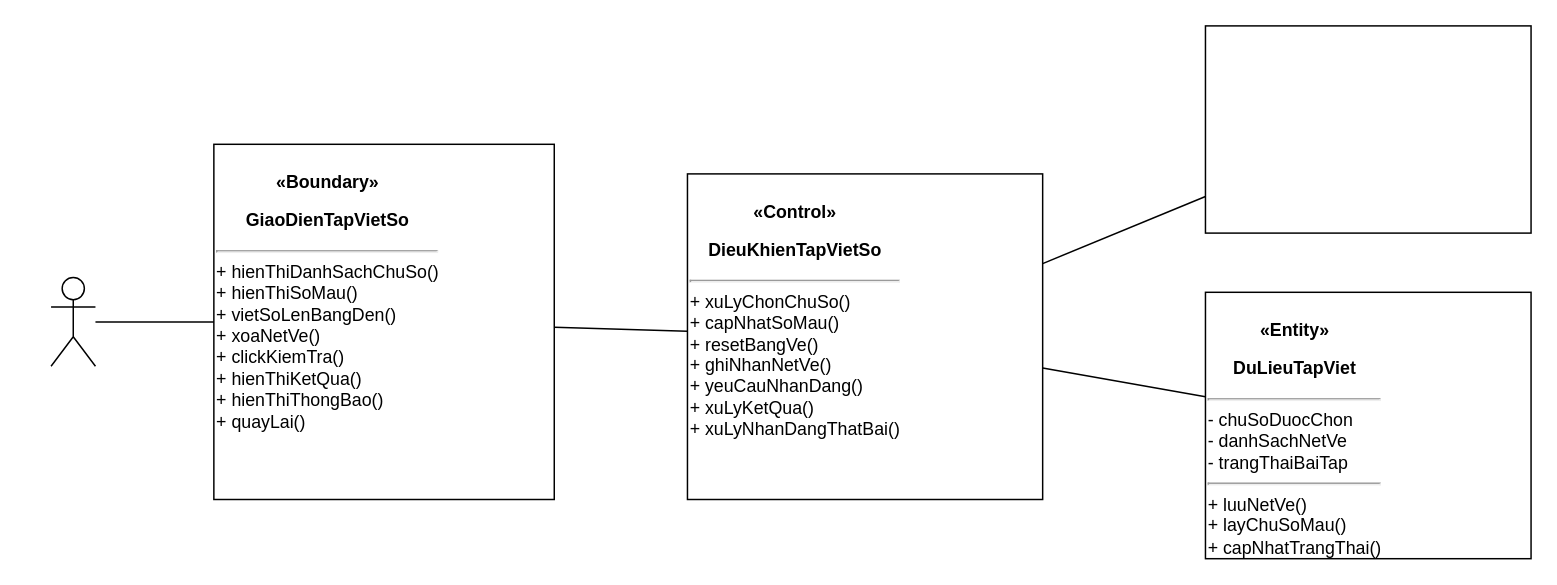
Some shapes in this 1557 by 585 pixel diagram are drawn without their labels. The shapes that lost their labels are listed below. From the top down, each one's box as (x1, y1, x2, y2) in pixels, then its label:
(1204, 24, 1531, 233): «Entity» MoHinhAI - modelCNN + nhanDangChuSo(image) + tinhDoTinCay()
(50, 276, 95, 366): Người dùng
